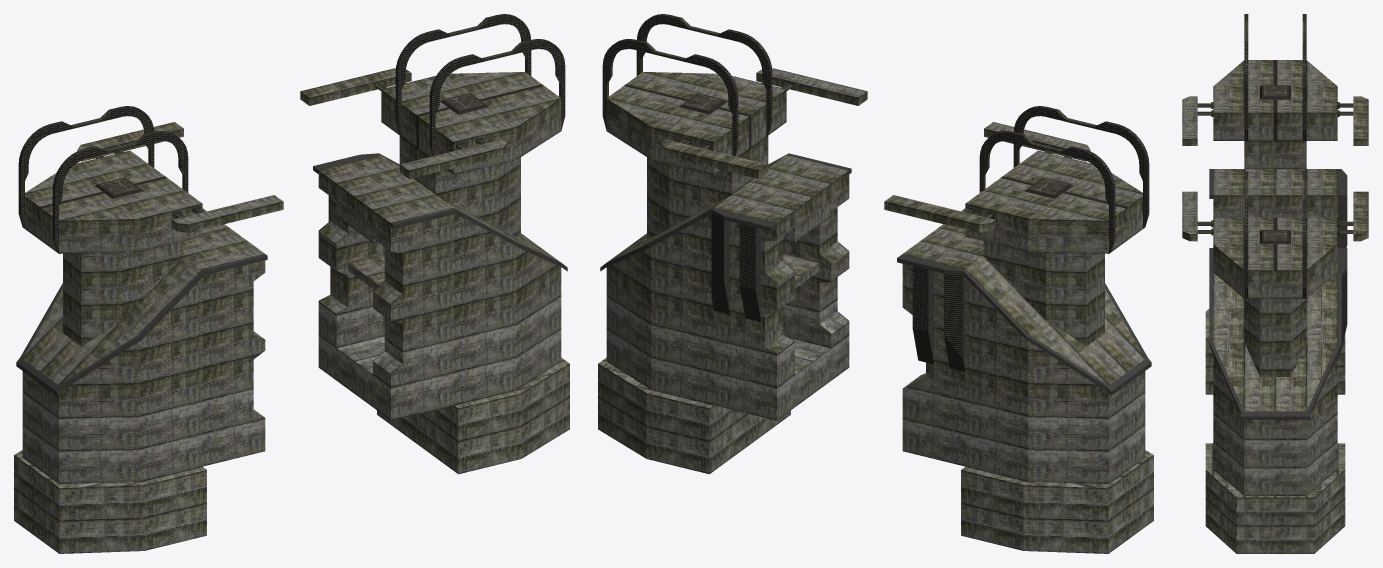
Rendered from LunarSpawnBunker2.fbx.
The picture shows the model from 3 angles, left to right: view 1: azimuth 30°, elevation 25°; view 2: azimuth 150°, elevation 25°; view 3: azimuth 270°, elevation 25°; orthographic projection. The views are drawn at different scales.
Visible parts, largest first — view 1: Object; view 2: Object; view 3: Object.
Part boxes in pixels (box(x1,y1,x2,y2)): Object: box(14, 14, 569, 553); Object: box(598, 14, 1153, 553); Object: box(1182, 14, 1368, 553).
Bounding box in the file's own units: 13000 × 9550 × 4800.
